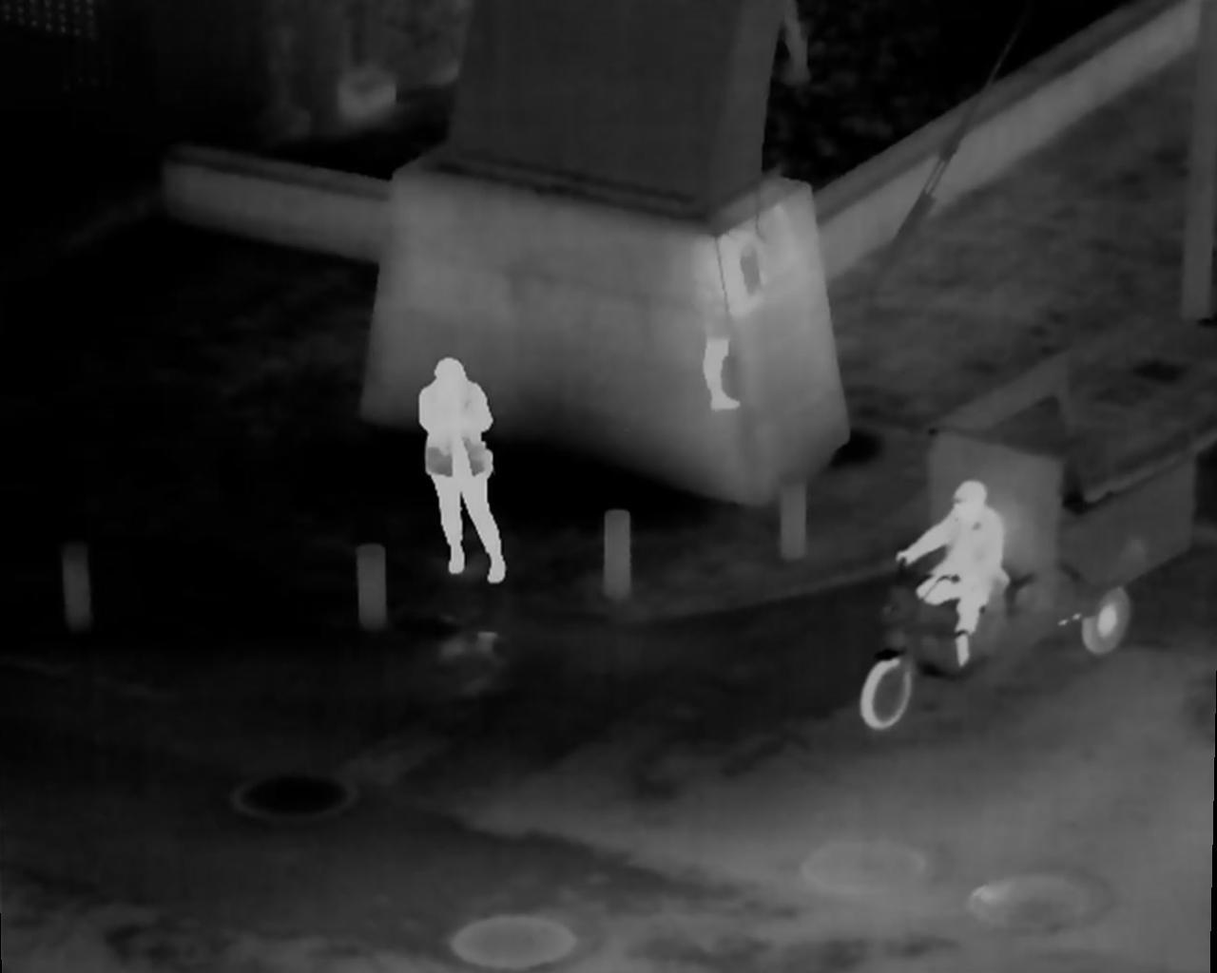person: (899, 482, 1014, 677), (417, 359, 512, 581)
